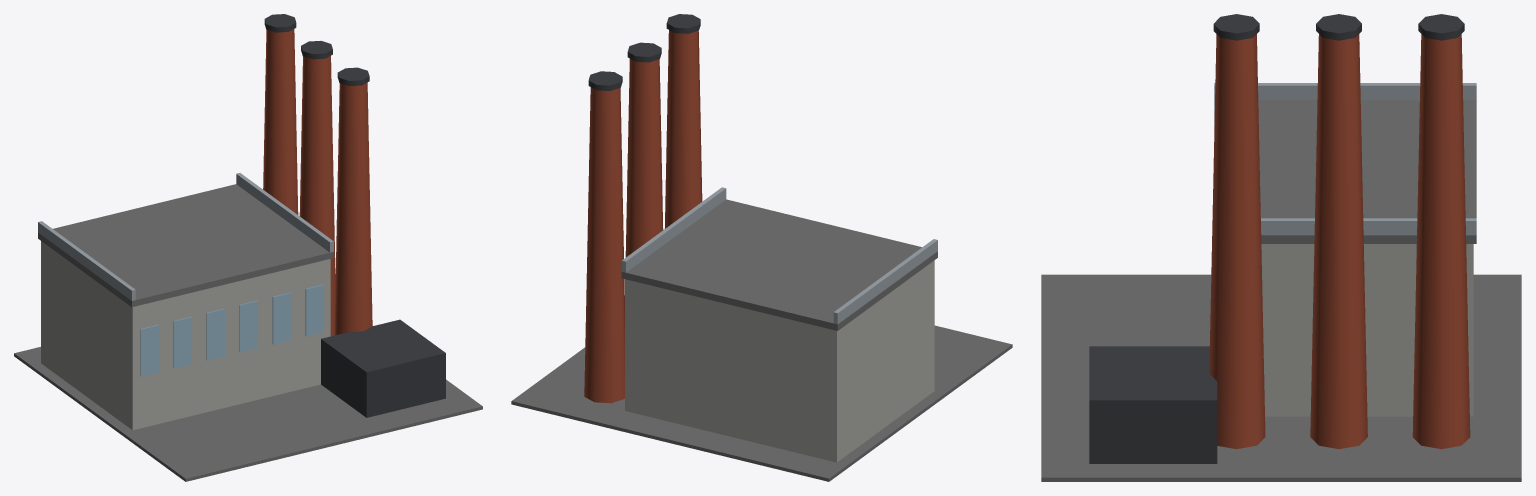
The model's file is bld_special_power_plant_a06_lod1.glb.
3 views of the same model, side by side, from view 1: azimuth 30°, elevation 25°; view 2: azimuth 150°, elevation 25°; view 3: azimuth 270°, elevation 25° (orthographic). The views are drawn at different scales.
Visible parts, largest first — view 1: body; view 2: body; view 3: body.
Part boxes in pixels (<box>): body: <box>14,14,482,481</box>; body: <box>511,14,1012,481</box>; body: <box>1041,14,1521,481</box>.
Bounding box in the file's own units: 15 × 14.4 × 15.
